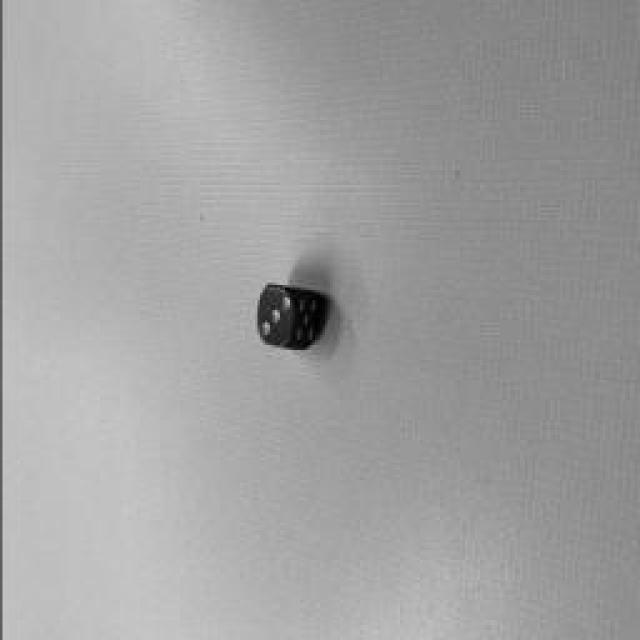dice_3: (256, 285, 294, 347)
